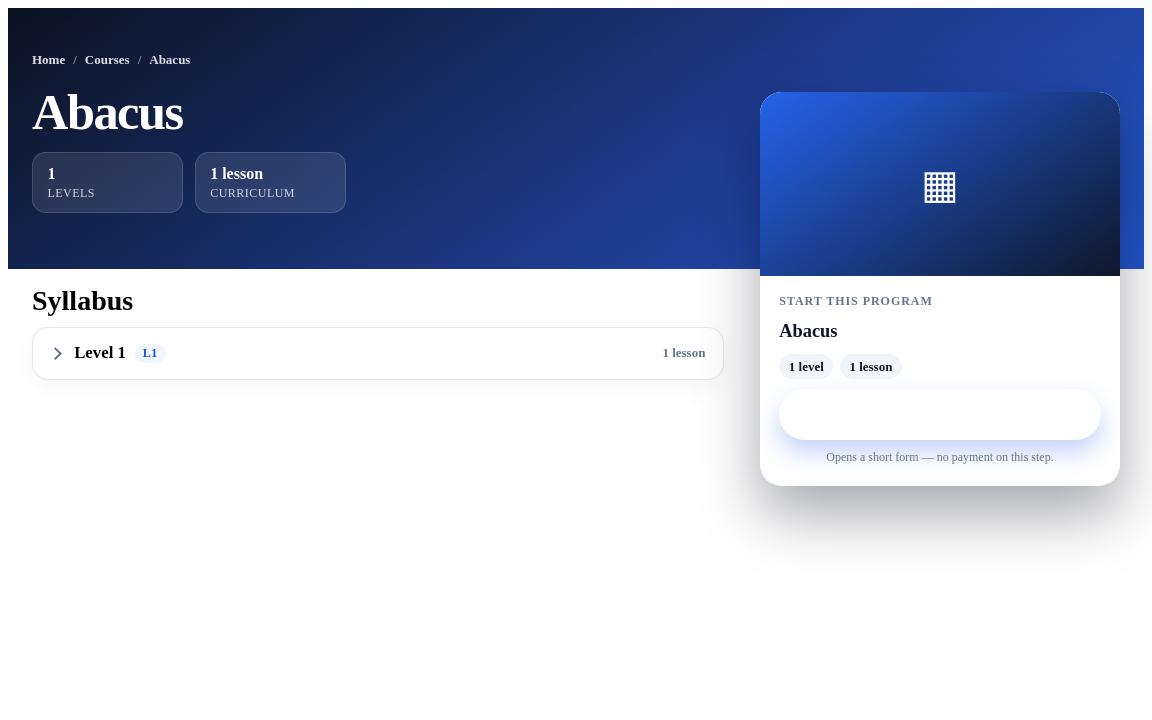
Test: CourseDetailContent › regression_public_course_level_expand_has_structured_panels
The width and height of the screenshot is (1152, 720).
Click the text "Level 1".
click(100, 353)  # box [74,343,126,363]
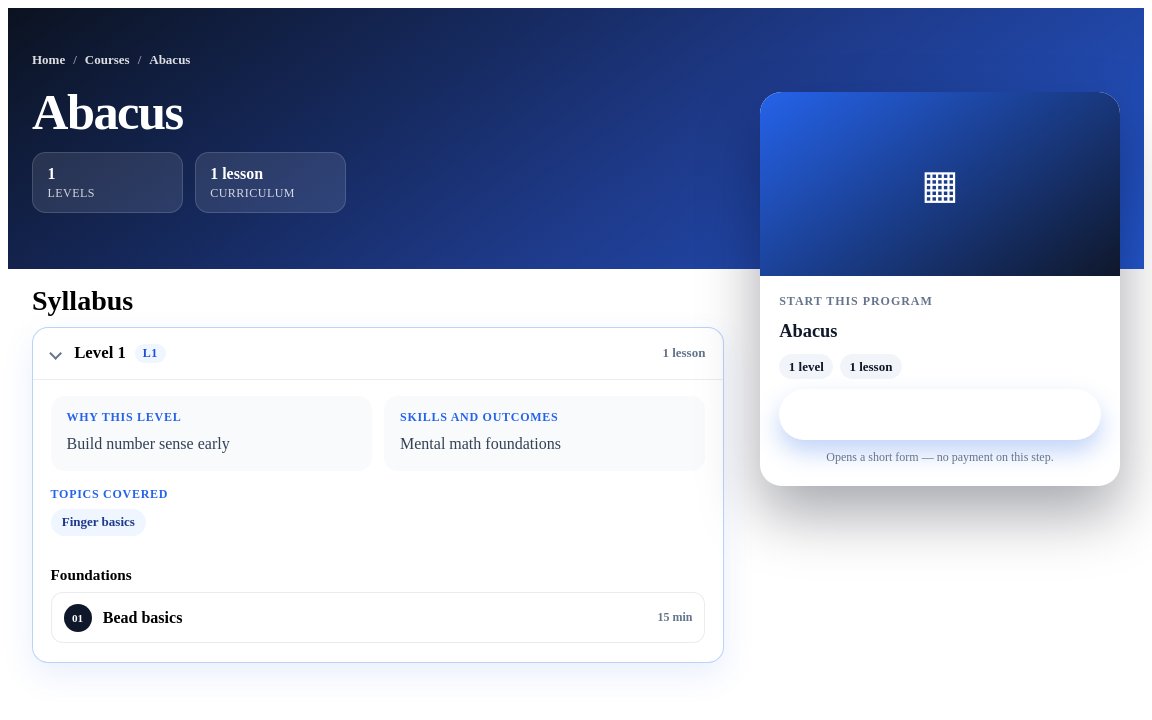
Expected: the heading "Why this level" is shown, [67,410,181,424]
Expected: the heading "Skills and outcomes" is shown, [400,410,558,424]
Expected: the heading "Topics covered" is shown, [51,487,168,501]
